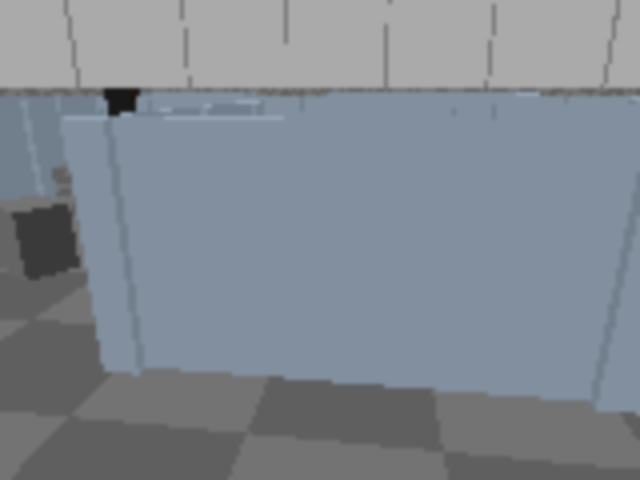obstacle: (0, 195, 80, 282)
person: (631, 0, 638, 186)
